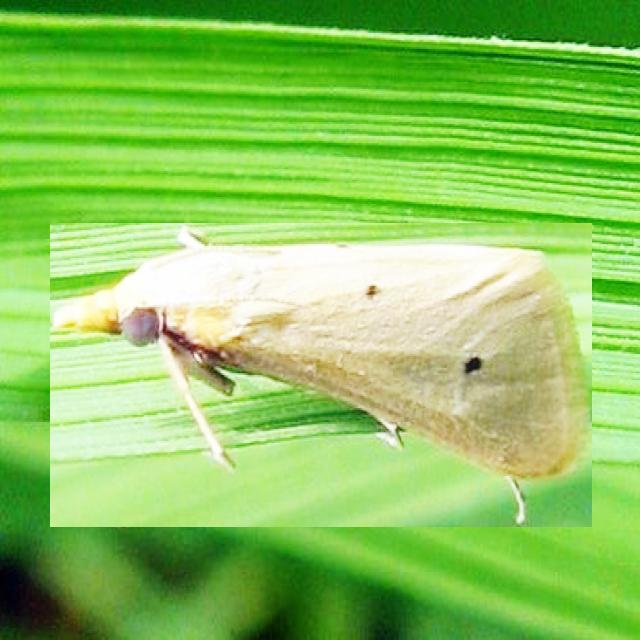stem-borer: (50, 223, 592, 527)
